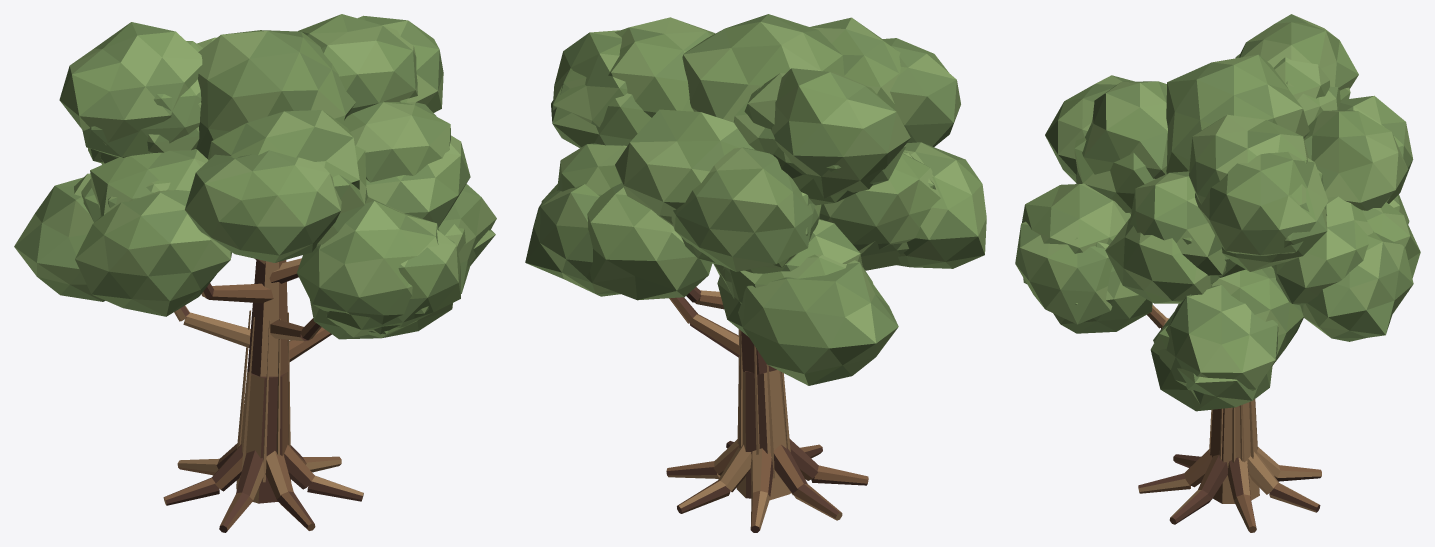
Rendered from healthy_tree_a.glb.
The picture shows the model from 3 angles, left to right: view 1: azimuth 30°, elevation 25°; view 2: azimuth 150°, elevation 25°; view 3: azimuth 270°, elevation 25°; orthographic projection. The views are drawn at different scales.
Visible parts, largest first — view 1: healthy_tree_a; view 2: healthy_tree_a; view 3: healthy_tree_a.
Boxes of the visible parts, bbox=[...] form: healthy_tree_a: bbox=[14, 14, 496, 532]; healthy_tree_a: bbox=[525, 14, 986, 532]; healthy_tree_a: bbox=[1015, 14, 1420, 532].
Size of the model in its own units: 4.02 by 4.27 by 3.64.
